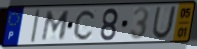3: (128, 6, 151, 42)
8: (100, 7, 119, 42)
C: (72, 8, 97, 42)
I: (29, 8, 42, 45)
M: (40, 10, 72, 43)
U: (150, 5, 178, 40)
